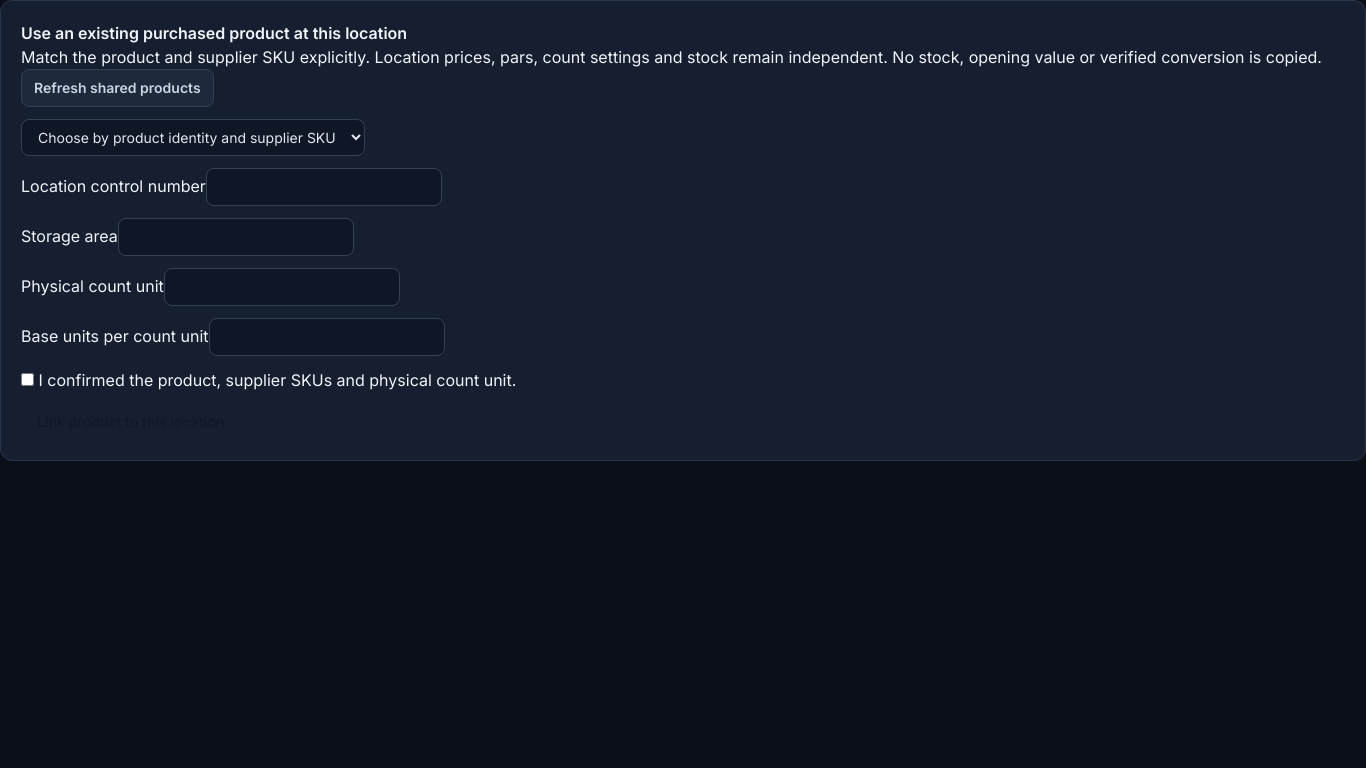
Test: already linked products cannot infer another membership or supplier selection
The image size is (1366, 768).
Click the button "Refresh shared products": (117, 88) [21,69,214,107]
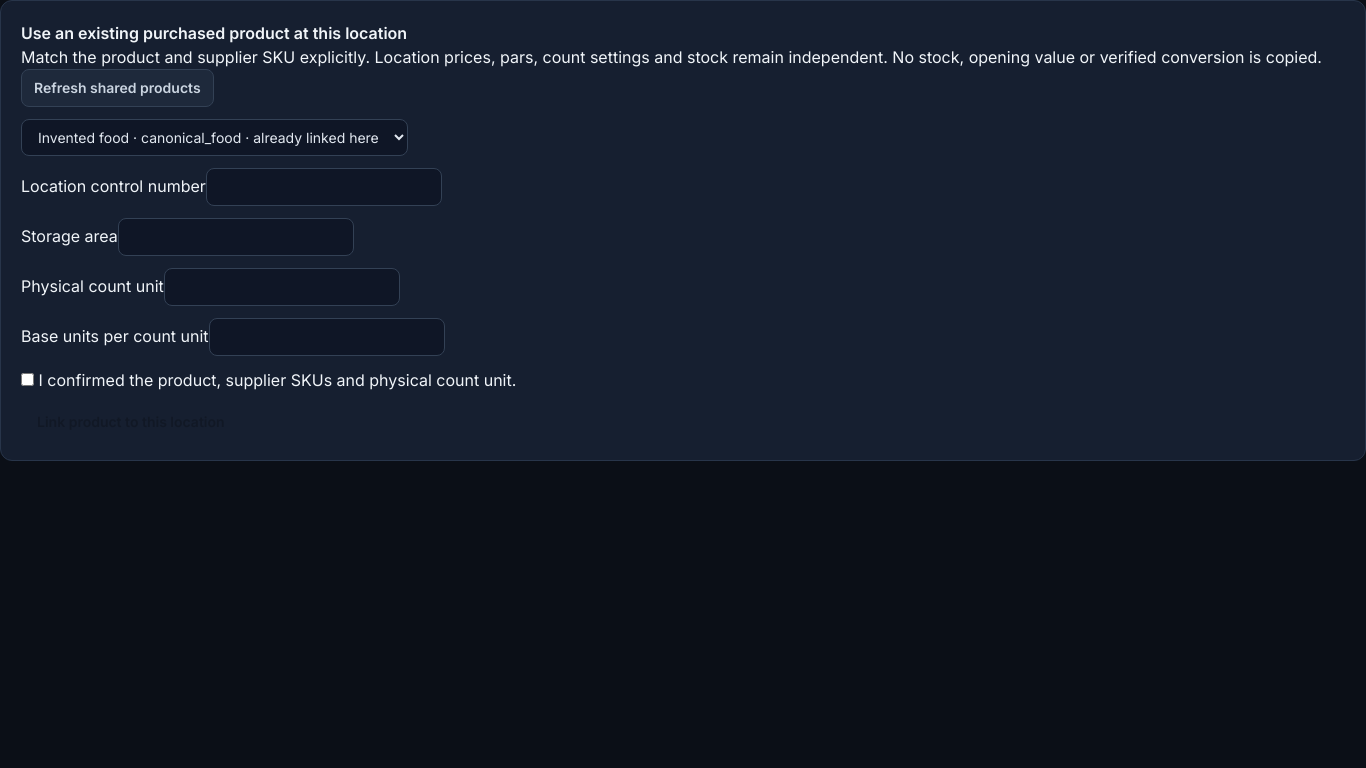
Select "Invented food · canonical_food · already linked here" in the dropdown named "Shared purchased product": (214, 138) [21,119,408,156]
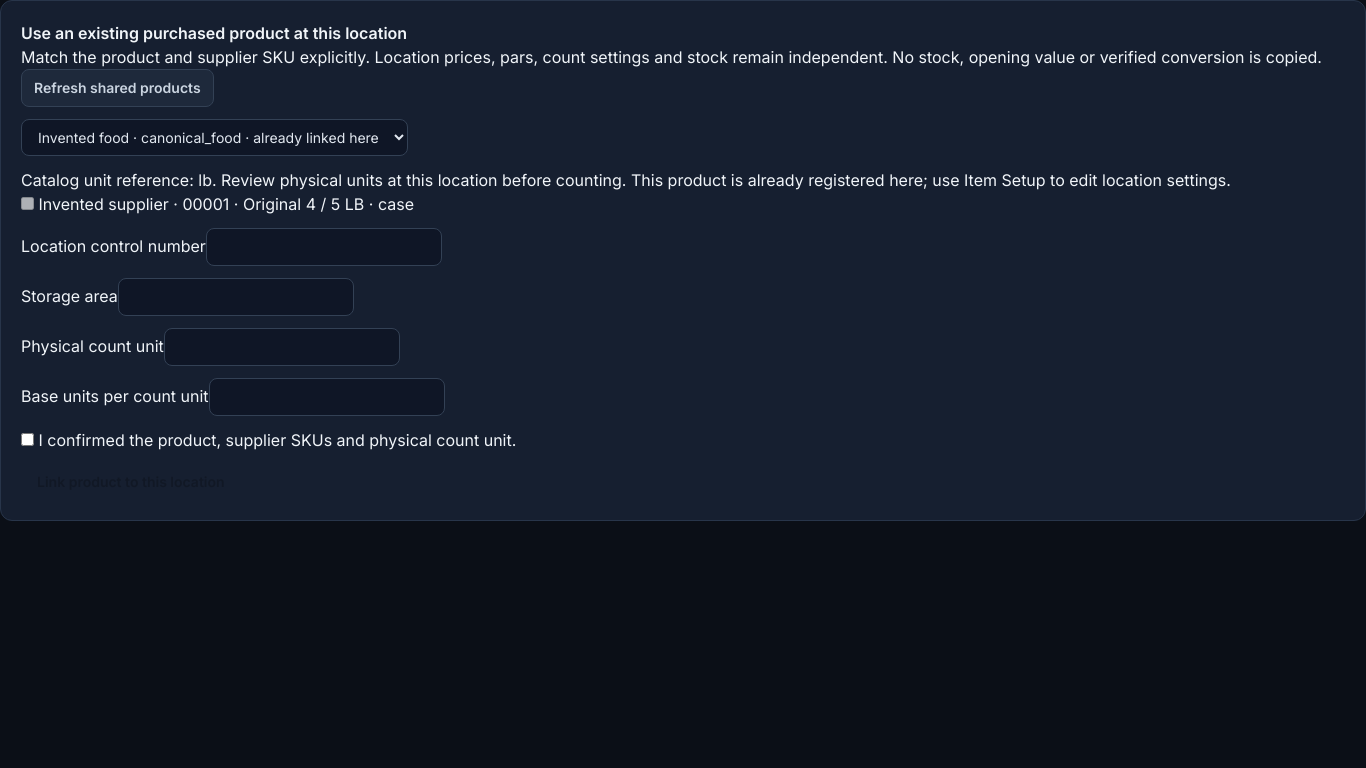
Expected: the text "already registered here" is shown, [631,170,1231,190]
